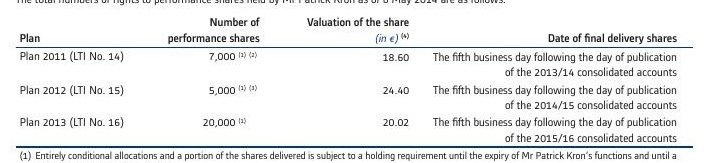table: (0, 0, 709, 163)
